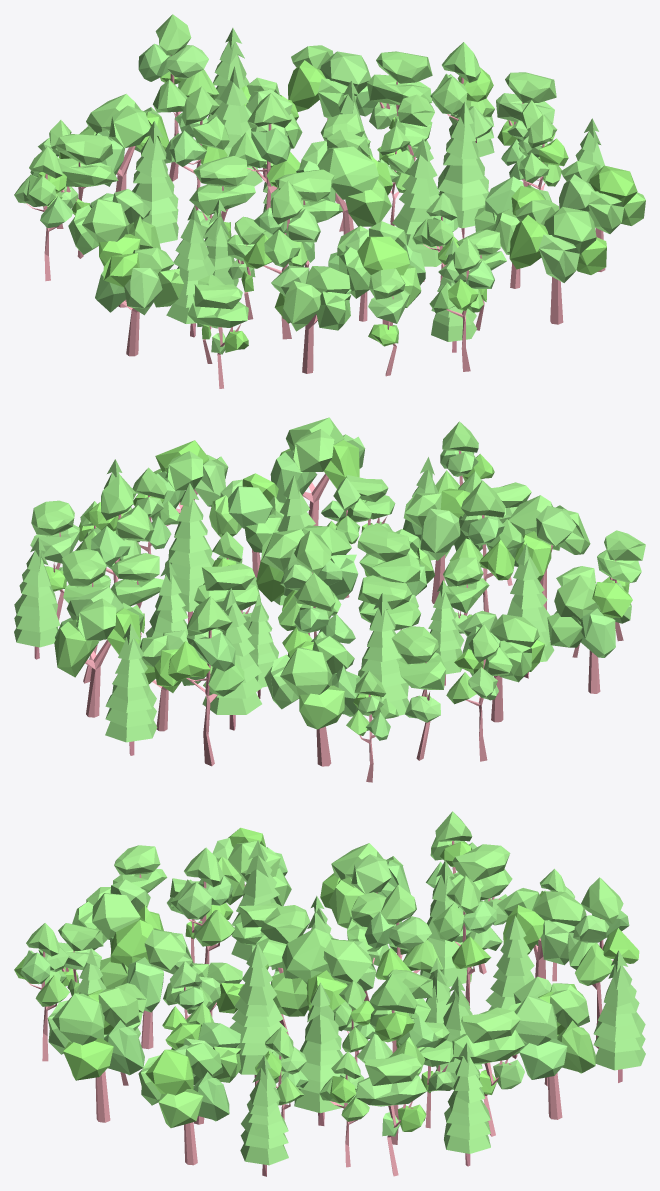
The model's file is ForestMain.fbx.
The picture shows the model from 3 angles, top to bottom: view 1: azimuth 30°, elevation 25°; view 2: azimuth 150°, elevation 25°; view 3: azimuth 270°, elevation 25°; orthographic projection. The views are drawn at different scales.
Visible parts, largest first — view 1: Forest; view 2: Forest; view 3: Forest.
Boxes of the visible parts, x1,y1,x2,y2 form: Forest: (14,14,645,388); Forest: (14,417,645,782); Forest: (14,811,645,1176).
Size of the model in its own units: 1352 by 415 by 1392.
